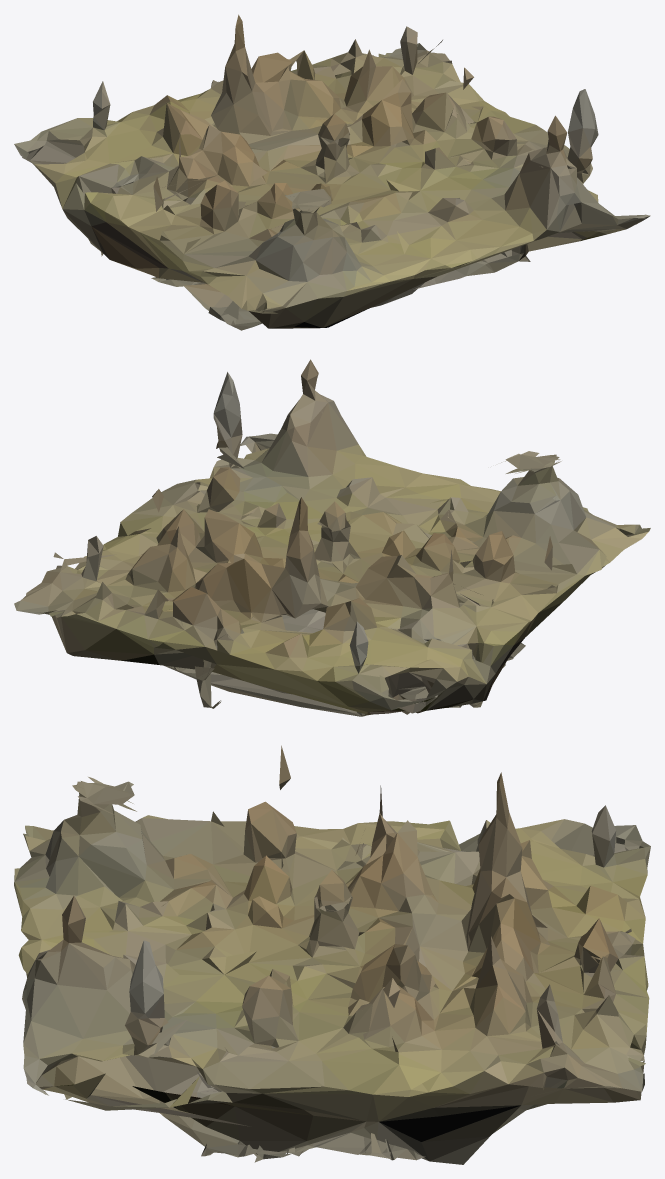
File: orc_city.glb
3 renders of one model, top to bottom at view 1: azimuth 30°, elevation 25°; view 2: azimuth 150°, elevation 25°; view 3: azimuth 270°, elevation 25°, orthographic. The views are drawn at different scales.
Parts seen in each view (by area): view 1: geometry_0; view 2: geometry_0; view 3: geometry_0.
Part boxes in pixels (left/top/right/bottom): geometry_0: left=14, top=14, right=650, bottom=330; geometry_0: left=14, top=359, right=650, bottom=716; geometry_0: left=14, top=745, right=650, bottom=1164.
Size of the model in its own units: 1.86 by 0.9103 by 1.86.
